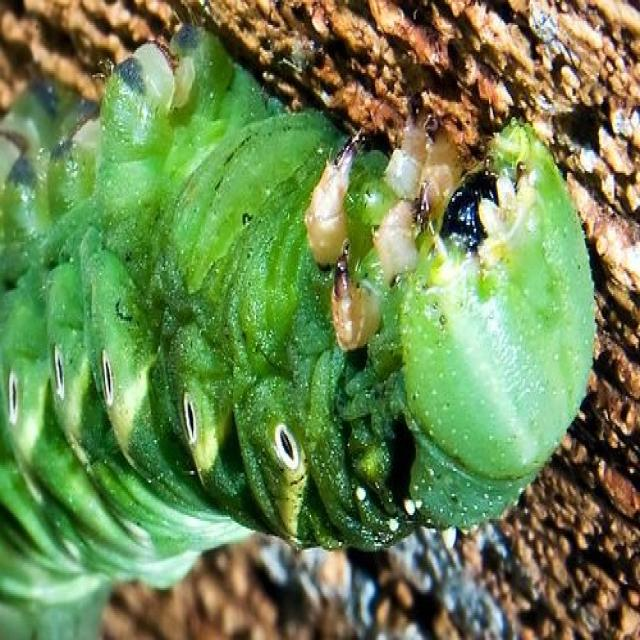army worm: (1, 34, 590, 618)
